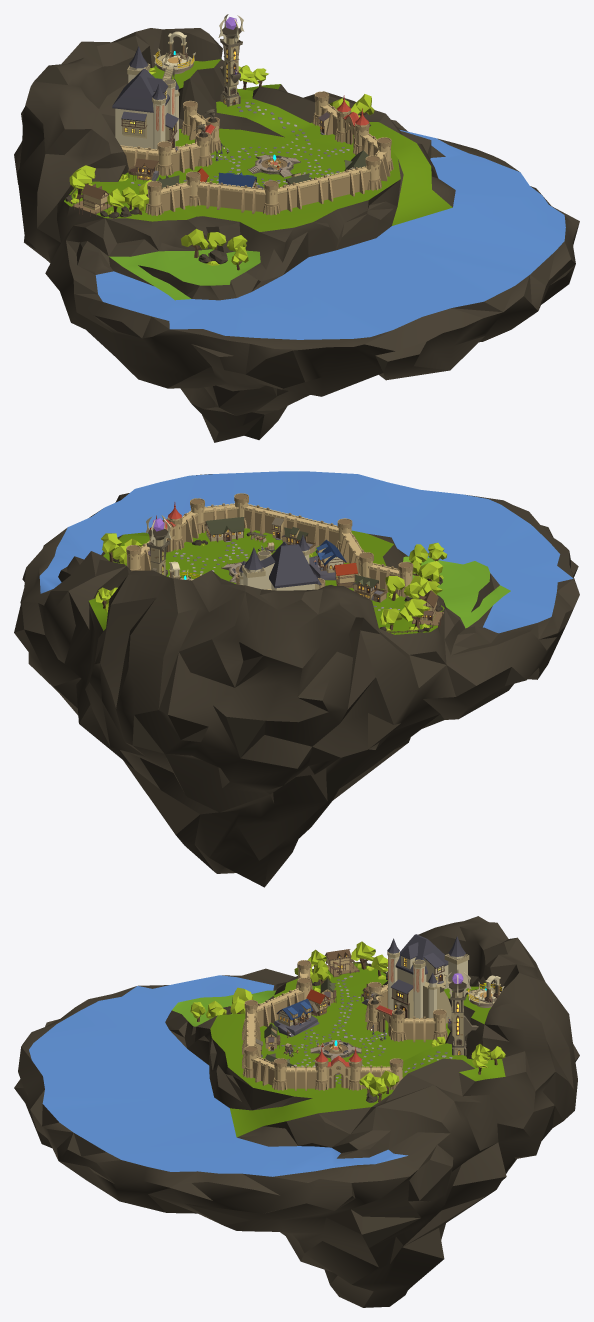
Rendered from skycastle.glb.
3 views of the same model, one above another, from view 1: azimuth 30°, elevation 25°; view 2: azimuth 150°, elevation 25°; view 3: azimuth 270°, elevation 25° (orthographic). The views are drawn at different scales.
Visible parts, largest first — view 1: Object_18, Object_10, Object_17, Object_15, Object_14, Object_13, Object_3, Object_12, Object_11, Object_16, Object_7, Object_8 (+3 smaller); view 2: Object_18, Object_17, Object_15, Object_10, Object_12, Object_14, Object_3, Object_16, Object_11, Object_13, Object_7, Object_8 (+3 smaller); view 3: Object_18, Object_17, Object_15, Object_10, Object_14, Object_12, Object_13, Object_3, Object_11, Object_6, Object_7, Object_4 (+3 smaller).
Boxes of the visible parts, box(x1,y1,x2,y2) form: Object_18: box(17, 17, 575, 439); Object_10: box(19, 28, 575, 431); Object_17: box(45, 34, 355, 442); Object_15: box(17, 34, 579, 380); Object_14: box(14, 14, 394, 414); Object_13: box(67, 26, 551, 351); Object_3: box(34, 65, 545, 442); Object_12: box(68, 15, 437, 337); Object_11: box(65, 29, 390, 263); Object_16: box(21, 14, 391, 205); Object_7: box(67, 31, 387, 217); Object_8: box(71, 51, 390, 215); Object_18: box(20, 471, 578, 834); Object_17: box(14, 524, 578, 887); Object_15: box(64, 493, 513, 789); Object_10: box(14, 498, 553, 871); Object_12: box(100, 498, 572, 873); Object_14: box(38, 494, 446, 772); Object_3: box(21, 541, 579, 873); Object_16: box(130, 515, 405, 696); Object_11: box(20, 502, 465, 654); Object_13: box(89, 495, 442, 651); Object_7: box(146, 493, 428, 631); Object_8: box(182, 504, 432, 630); Object_18: box(21, 938, 579, 1263); Object_17: box(148, 922, 578, 1307); Object_15: box(14, 973, 577, 1245); Object_10: box(59, 936, 573, 1200); Object_14: box(227, 955, 526, 1307); Object_12: box(197, 949, 572, 1149); Object_13: box(18, 940, 545, 1200); Object_3: box(14, 976, 554, 1306); Object_11: box(208, 938, 534, 1217); Object_6: box(190, 942, 469, 1101); Object_7: box(242, 934, 491, 1089); Object_4: box(255, 951, 501, 1101).
Bounding box in the file's own units: 199 × 155 × 226.
1 material, 1 textured.
